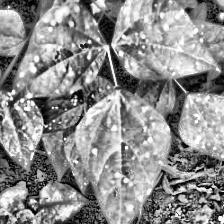Bean Rust: (76, 89, 168, 224), (110, 0, 220, 80), (13, 2, 104, 96), (36, 77, 116, 136), (179, 91, 224, 166), (0, 88, 40, 172)
